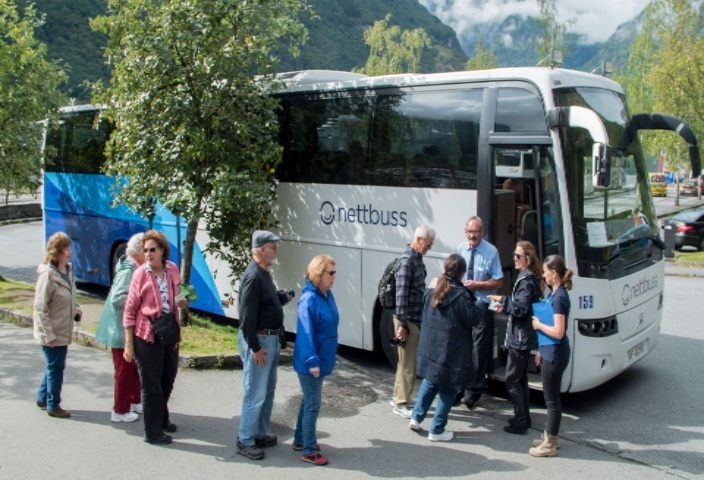bus: (25, 69, 693, 420)
